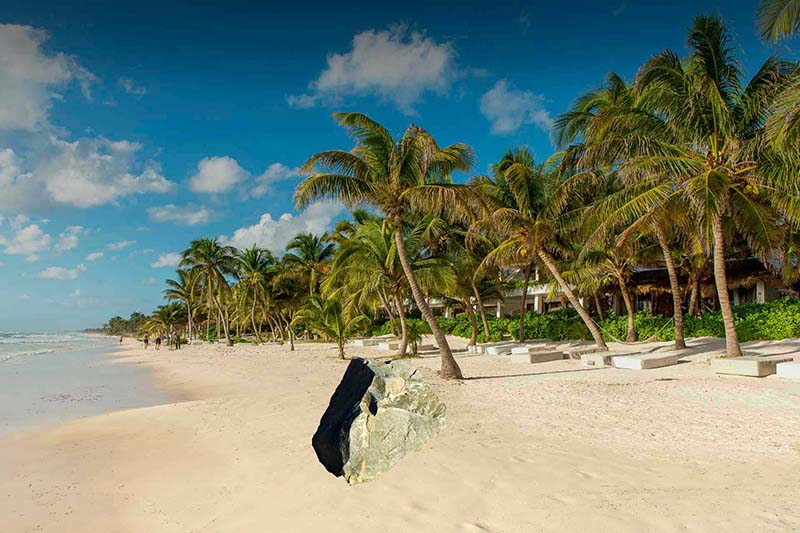Rocks: (307, 349, 452, 492)
